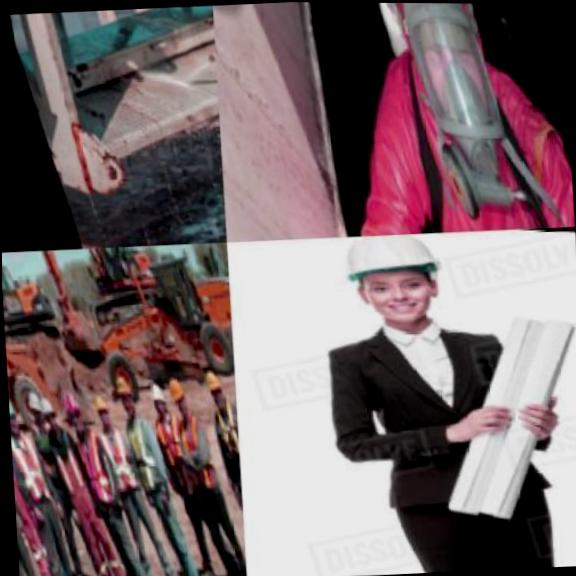safety_vest: (322, 2, 574, 237), (84, 409, 138, 490), (62, 416, 110, 503), (111, 409, 162, 485), (141, 402, 187, 482), (165, 400, 210, 479), (10, 420, 51, 501)
